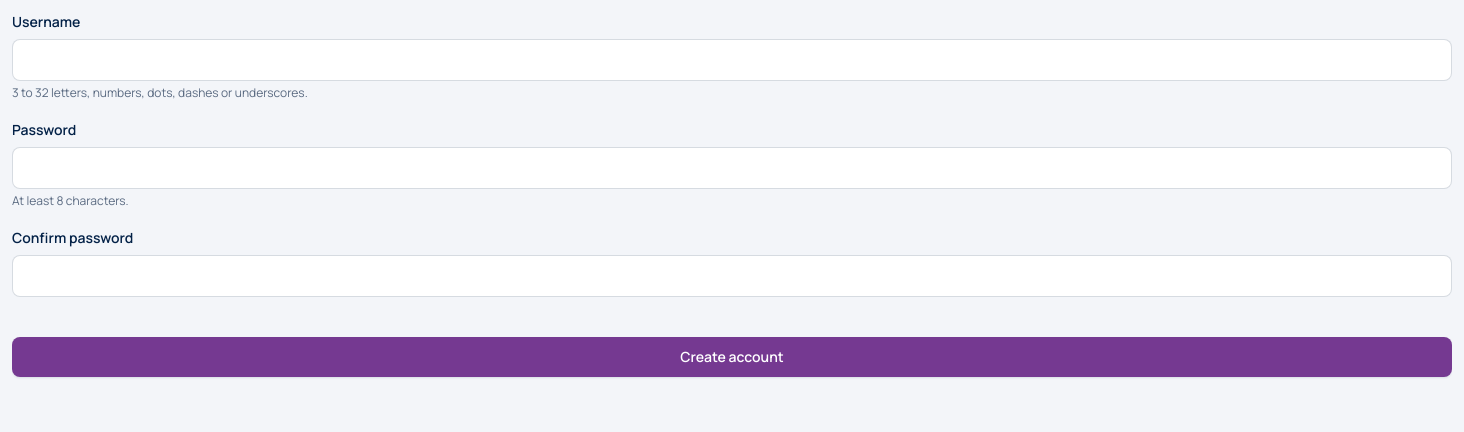
Test: RegisterForm › rejects mismatched passwords without a request
Type "new.user" into the field labelled "Username" at (732, 60), box [12,39,1452,81]
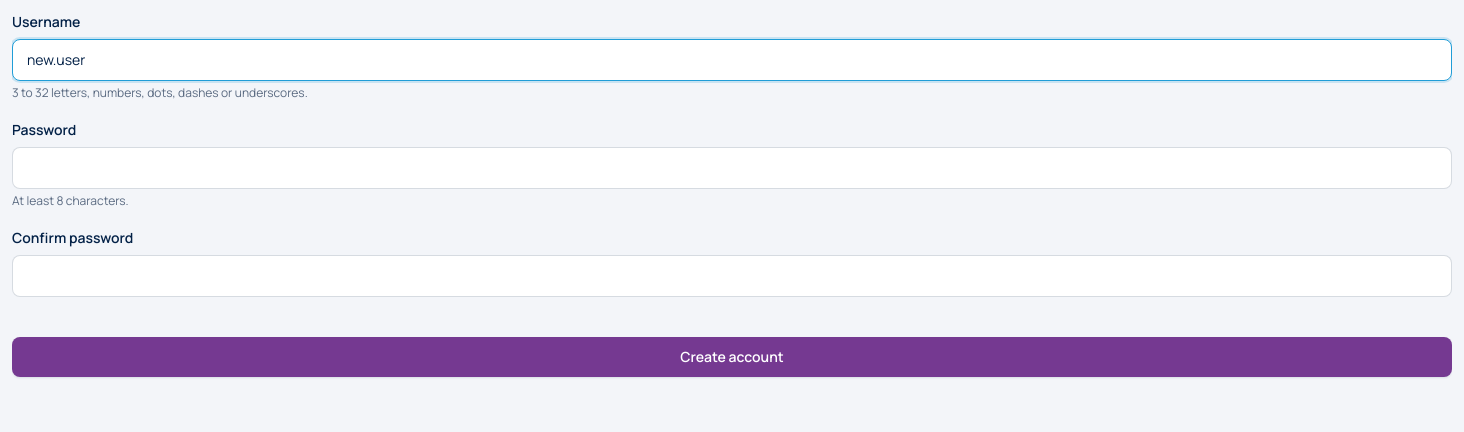
Type "long-password" into the password field labelled "Password" at (732, 168), box [12,147,1452,189]
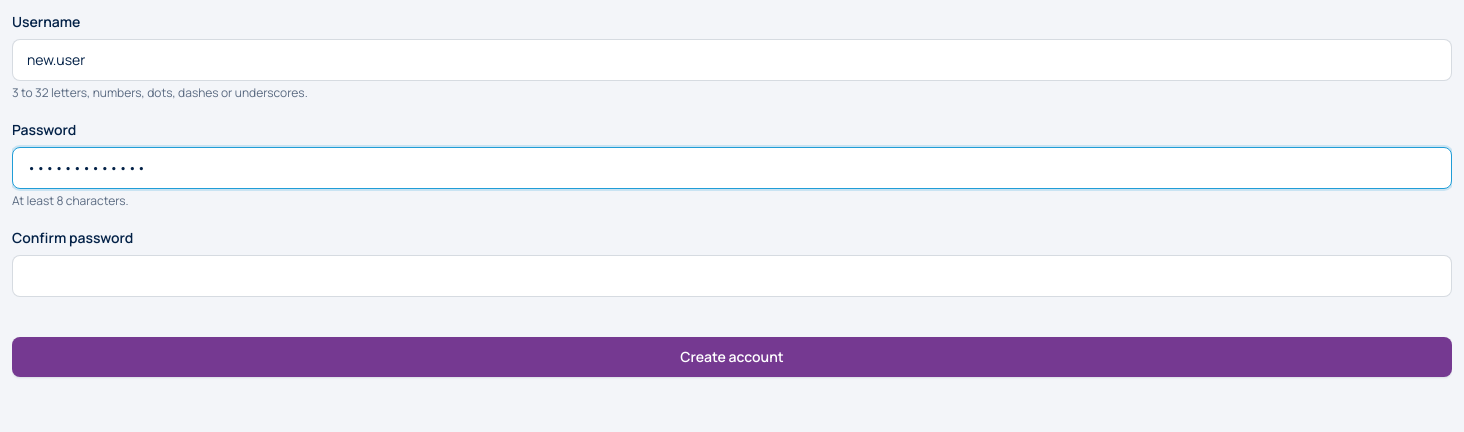
Type "different-password" into the password field labelled "Confirm password" at (732, 276), box [12,255,1452,297]
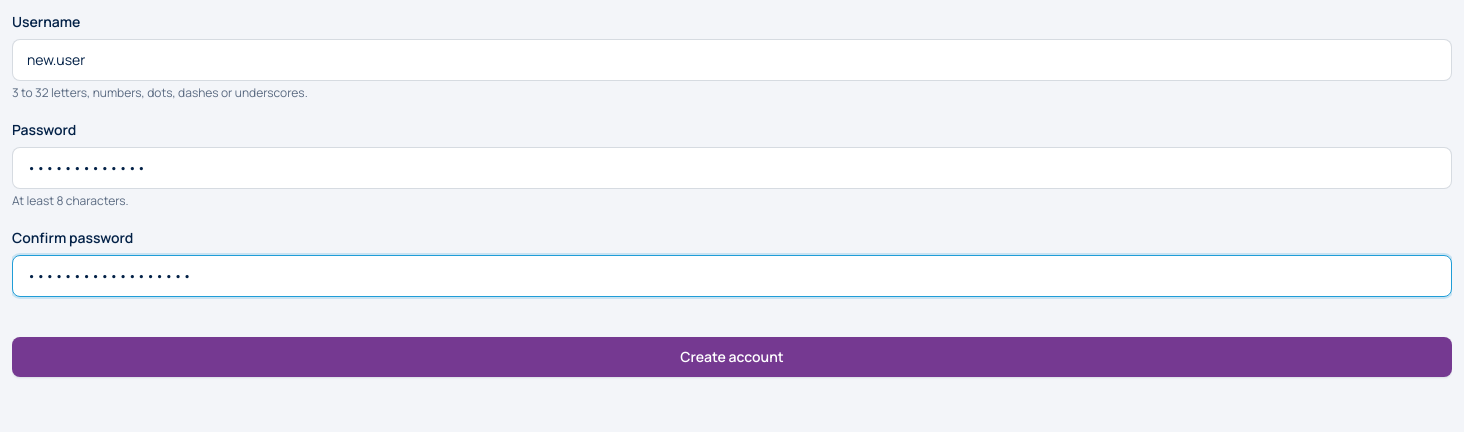
Click the button "Create account" at (732, 357), box [12,337,1452,377]
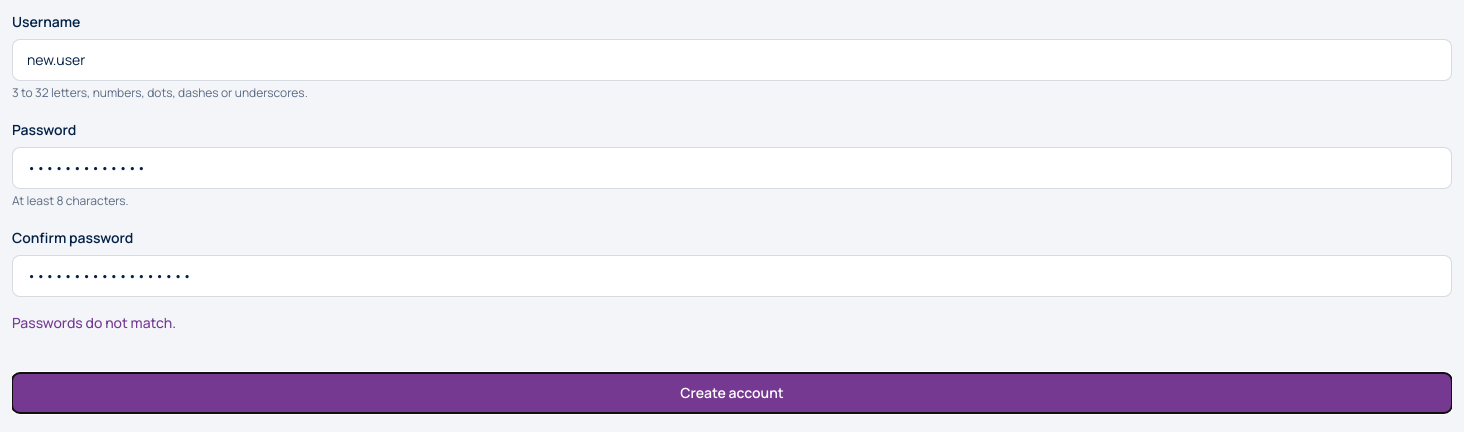
expect the message reads "Passwords do not match.": met, box [12,313,176,332]
